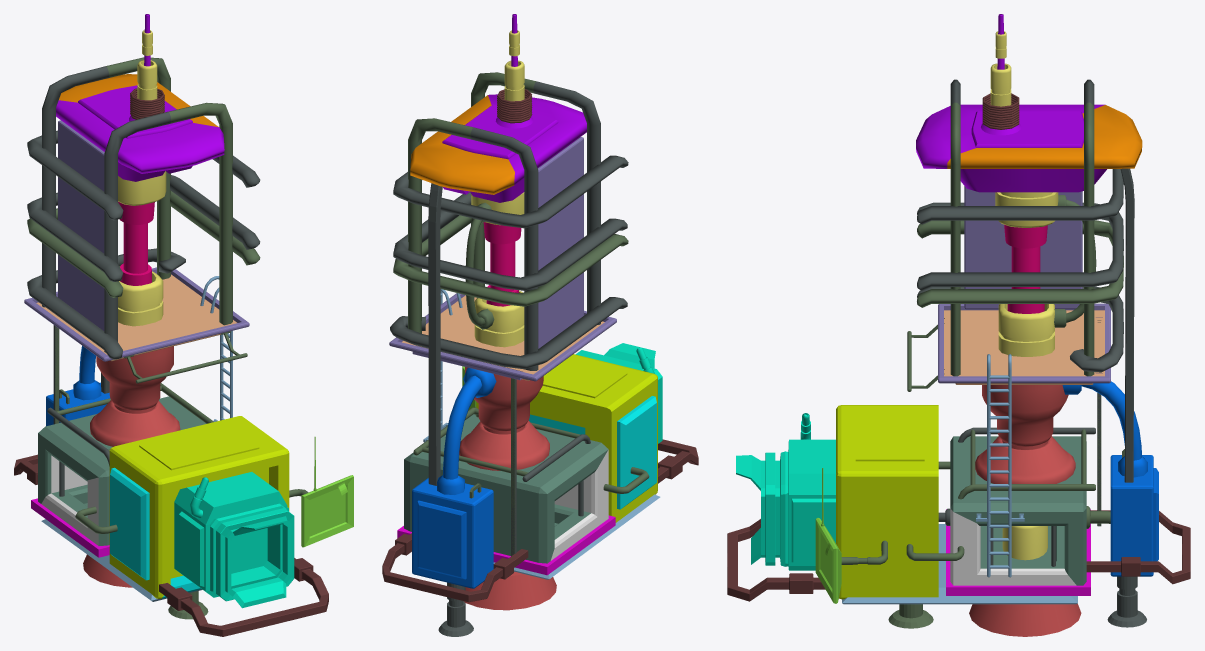
Rendered from MESH_Foreuse_ANIM 1.fbx.
The picture shows the model from 3 angles, left to right: view 1: azimuth 30°, elevation 25°; view 2: azimuth 150°, elevation 25°; view 3: azimuth 270°, elevation 25°; orthographic projection. The views are drawn at different scales.
Visible parts, largest first — view 1: polySurface17, polySurface61, polySurface48, polySurface40, polySurface67, polySurface65, polySurface62, polySurface45, polySurface68, polySurface32, polySurface5, polySurface42 (+16 smaller); view 2: polySurface40, polySurface17, polySurface48, polySurface64, polySurface65, polySurface68, polySurface45, polySurface67, polySurface32, polySurface62, polySurface42, polySurface73 (+19 smaller); view 3: polySurface17, polySurface48, polySurface40, polySurface62, polySurface61, polySurface45, polySurface65, polySurface64, polySurface42, polySurface32, polySurface31, polySurface35 (+22 smaller).
Boxes of the visible parts, box(x1,y1,x2,y2) form: polySurface17: box(109, 416, 289, 598); polySurface61: box(174, 472, 291, 608); polySurface48: box(56, 74, 224, 181); polySurface40: box(38, 396, 206, 545); polySurface67: box(104, 102, 232, 352); polySurface65: box(58, 120, 104, 330); polySurface62: box(24, 267, 249, 361); polySurface45: box(90, 346, 180, 446); polySurface68: box(42, 57, 170, 307); polySurface32: box(27, 175, 260, 281); polySurface5: box(159, 558, 328, 636); polySurface42: box(27, 191, 260, 297); polySurface40: box(404, 414, 608, 563); polySurface17: box(476, 354, 657, 522); polySurface48: box(410, 94, 586, 202); polySurface64: box(412, 478, 493, 588); polySurface65: box(538, 137, 583, 348); polySurface68: box(408, 118, 538, 370); polySurface45: box(459, 367, 549, 470); polySurface67: box(471, 72, 600, 324); polySurface32: box(393, 192, 627, 290); polySurface62: box(389, 293, 616, 381); polySurface42: box(393, 215, 628, 306); polySurface73: box(428, 183, 442, 485); polySurface17: box(836, 405, 938, 599); polySurface48: box(916, 104, 1142, 192); polySurface40: box(950, 436, 1086, 585); polySurface62: box(938, 303, 1110, 383); polySurface61: box(736, 439, 835, 570); polySurface45: box(975, 385, 1075, 483); polySurface65: box(964, 186, 1082, 309); polySurface64: box(1110, 455, 1158, 576); polySurface42: box(917, 220, 1123, 307); polySurface32: box(917, 202, 1123, 290); polySurface31: box(917, 169, 1123, 224); polySurface35: box(969, 603, 1081, 636).
Bounding box in the file's own units: 6.35 × 15.47 × 10.74.
